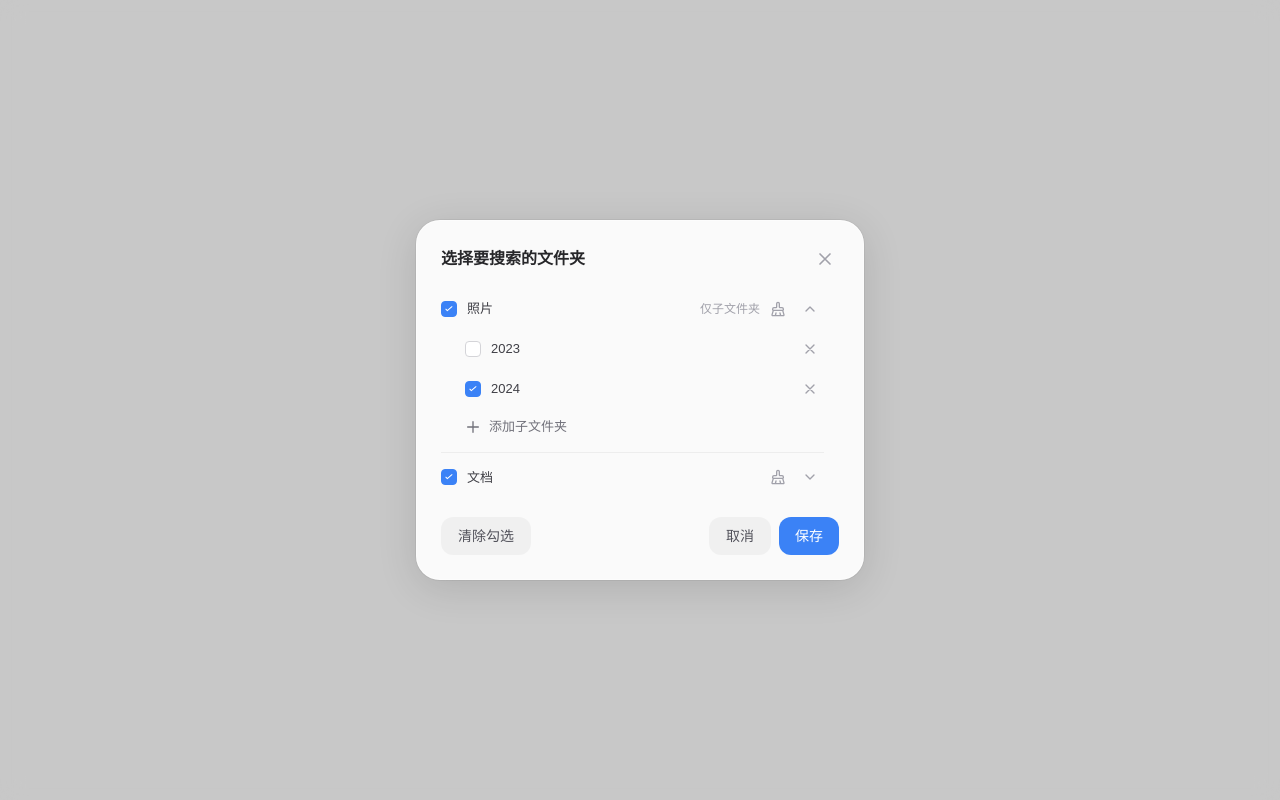
Scenario: FolderFilterDialog › 取消根目录的勾选后子文件夹变淡、不能切换，但保留勾选状态
The width and height of the screenshot is (1280, 800).
Hover over the element showing "2024" at (505, 388), box [491,381,520,396]
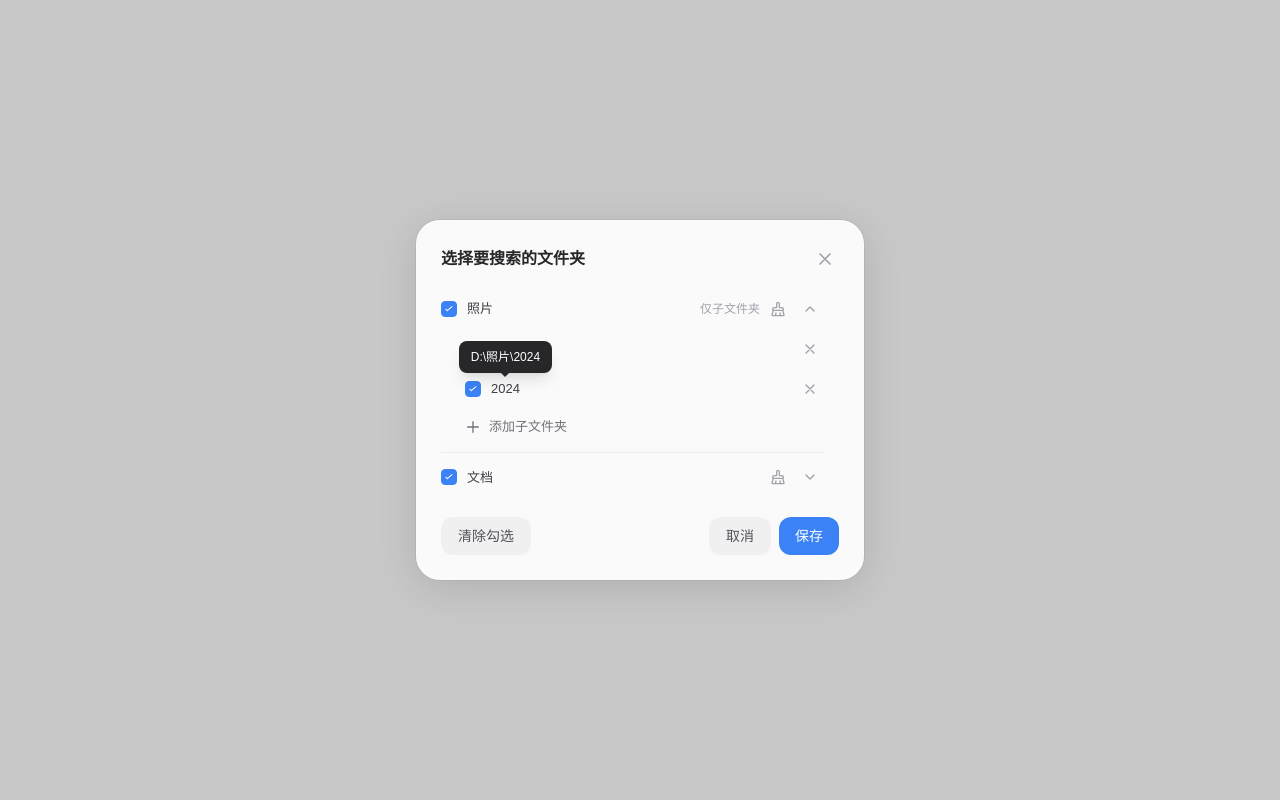
expect the text "D:\\照片\\2024" is shown: met, box [459,341,552,373]
Move the pointer off the element showing "2024", box [491,381,520,396]
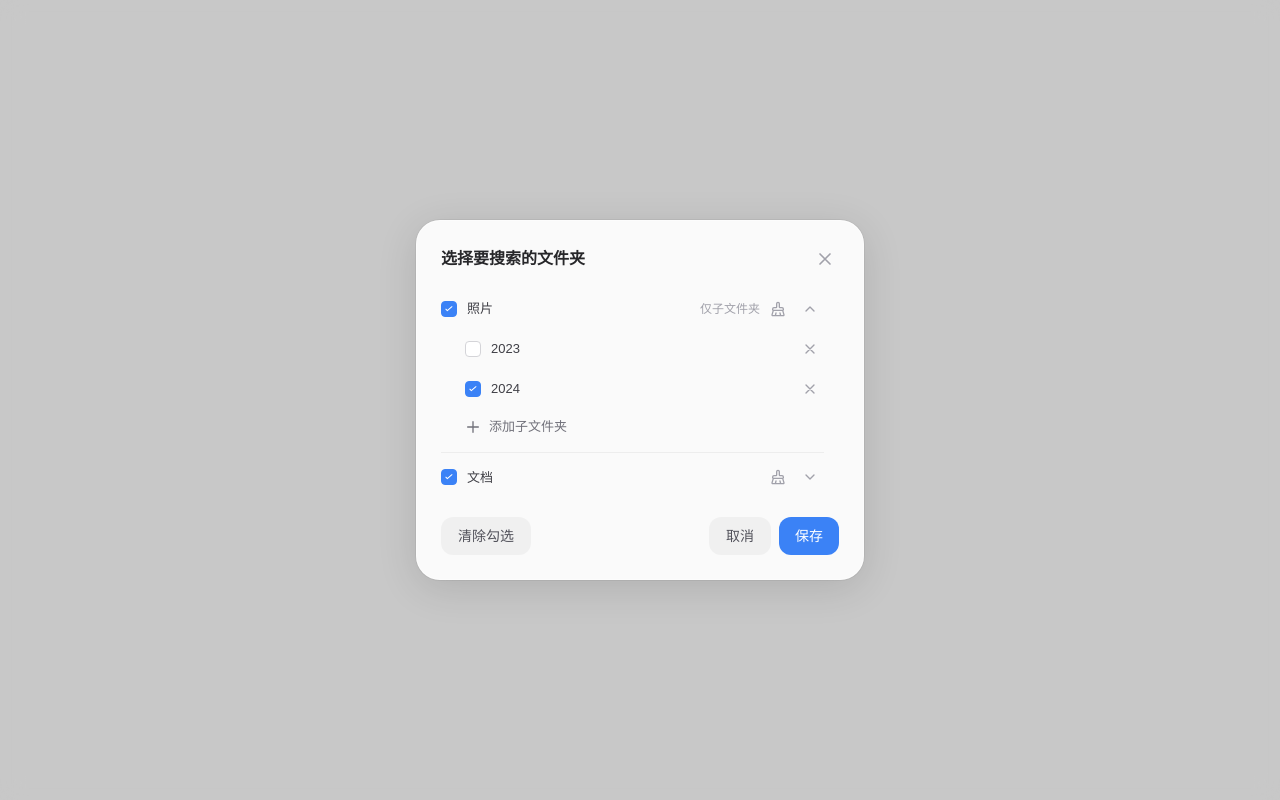
Click the checkbox labelled "照片" at (449, 309), box [441,301,457,317]
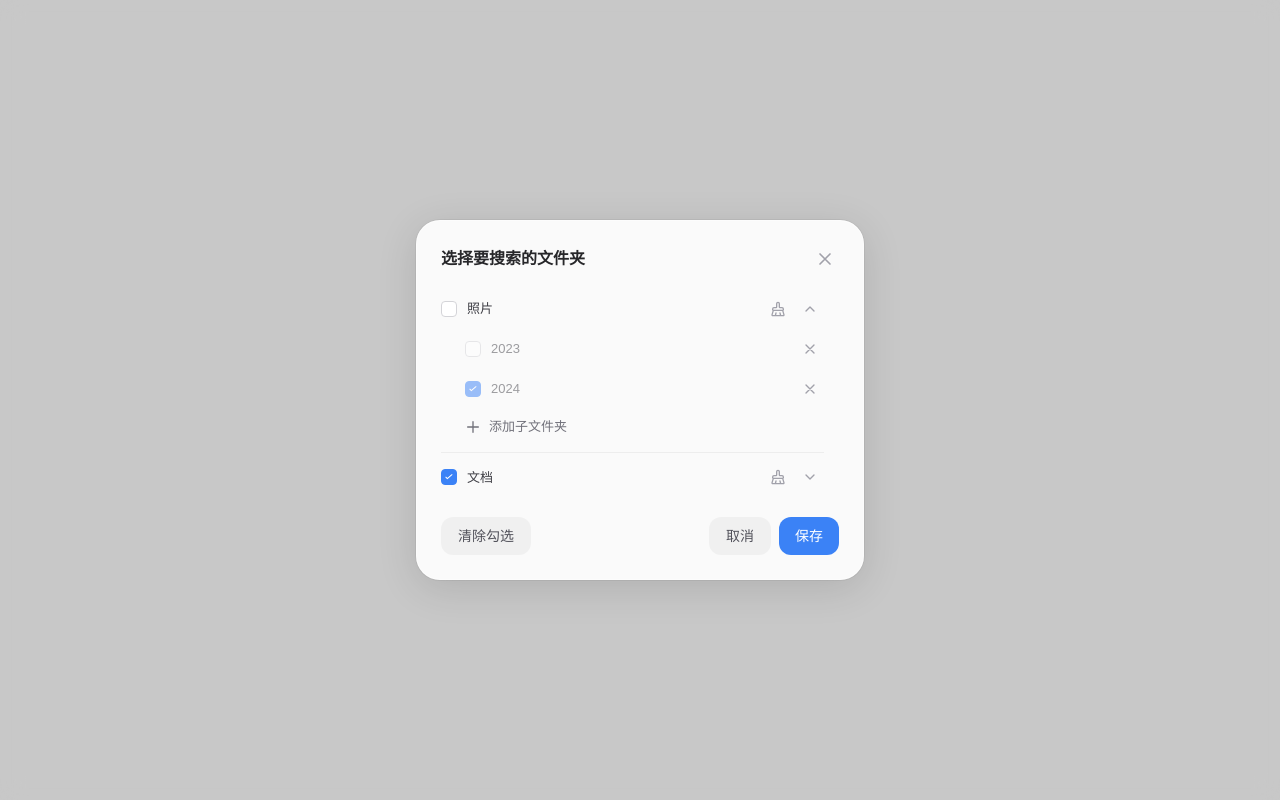
expect the checkbox labelled "2024" is checked: met, box [465,381,481,397]
expect the checkbox labelled "2024" is disabled: met, box [465,381,481,397]
expect the text "仅子文件夹" is gone: met
Hover over the element showing "2024" at (505, 388), box [491,381,520,396]
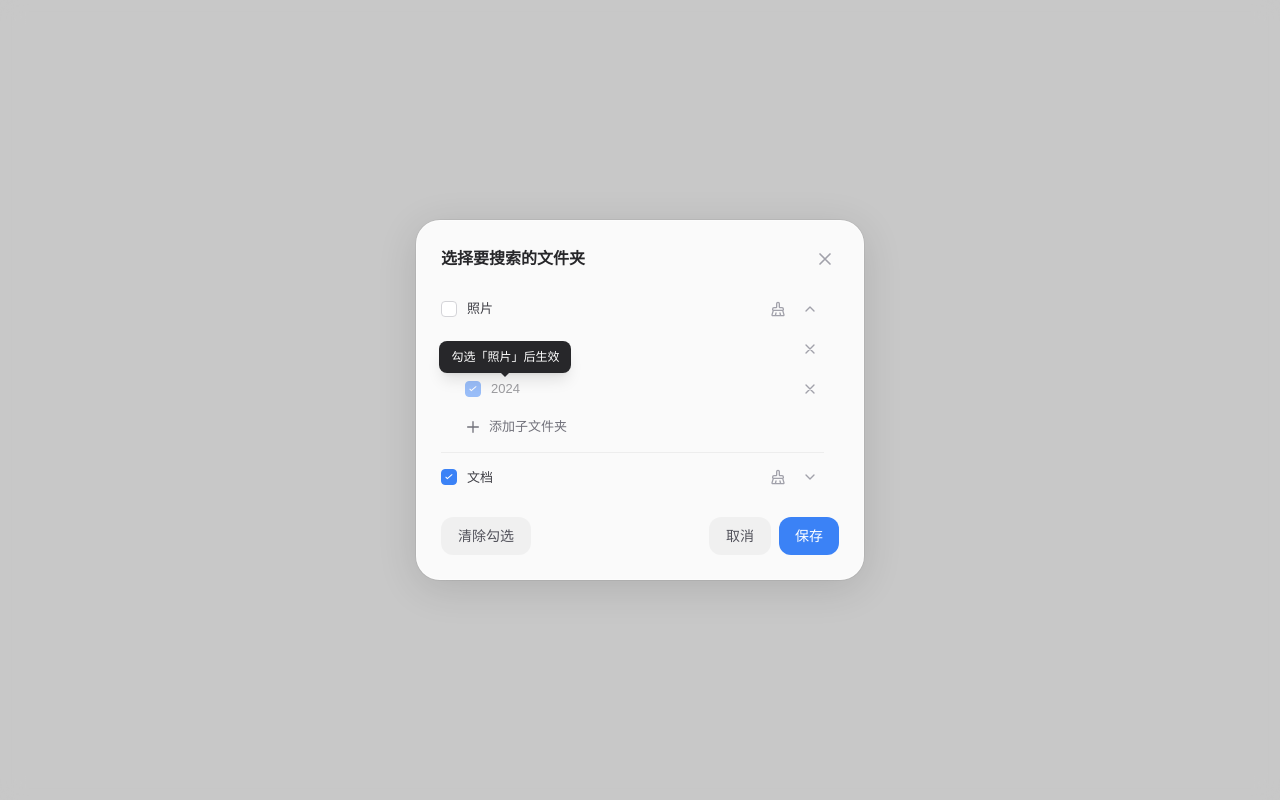
expect the text "勾选「照片」后生效" is shown: met, box [440,341,572,373]
Click the checkbox labelled "照片" at (449, 309), box [441,301,457,317]
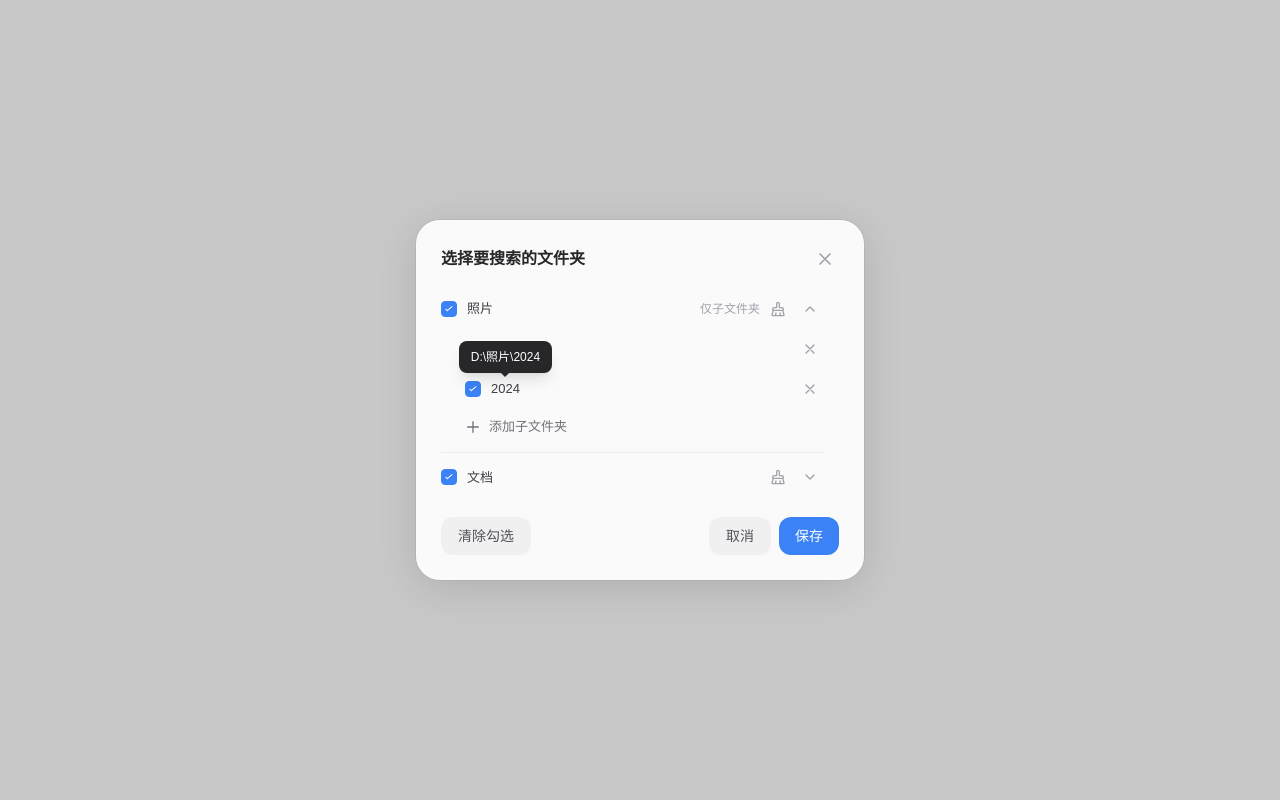
expect the checkbox labelled "2024" is enabled: met, box [465,381,481,397]
